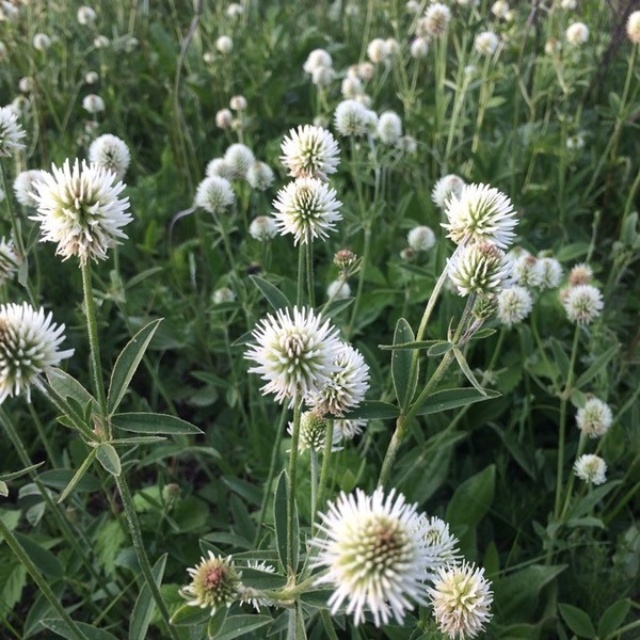obstacle: (70, 118, 519, 603)
